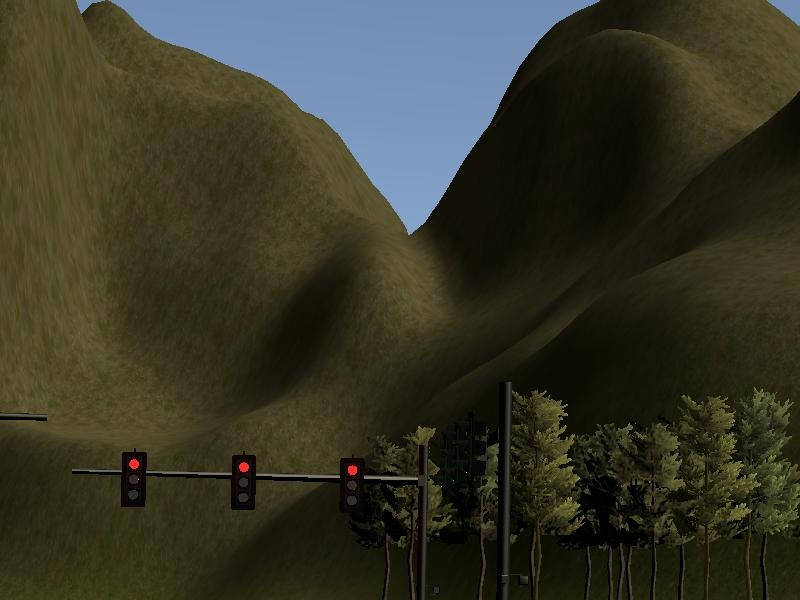red: (333, 449, 374, 520), (224, 449, 263, 517), (118, 446, 151, 512)
